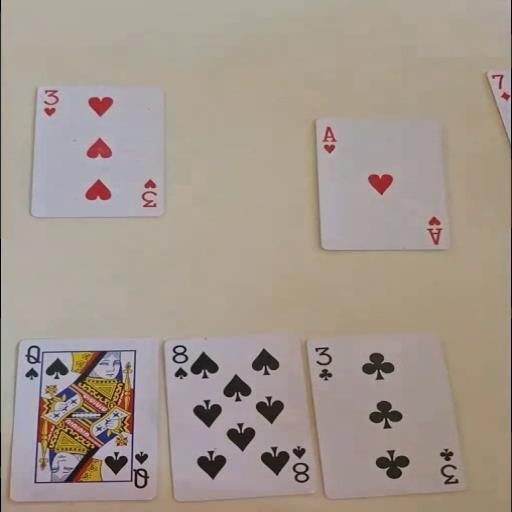3: (436, 446, 460, 485), (312, 344, 334, 382), (138, 176, 158, 208), (40, 88, 60, 118)
7: (489, 72, 510, 101)
8: (289, 443, 311, 484), (170, 342, 190, 380)
A: (424, 214, 444, 246), (319, 124, 338, 155)
Q: (129, 450, 150, 490), (22, 343, 42, 381)
